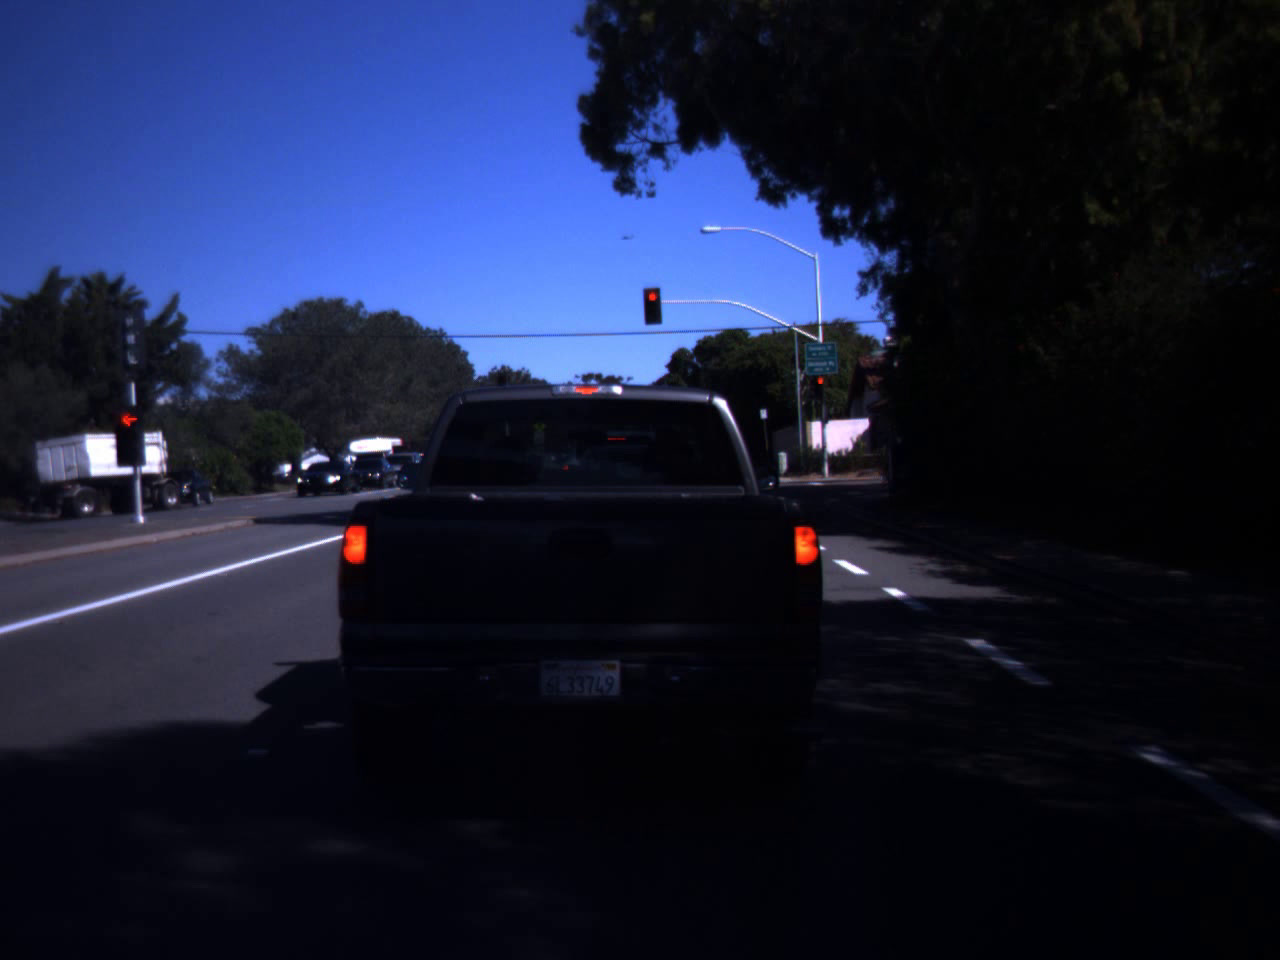stop: (112, 400, 157, 467), (644, 291, 662, 318), (814, 376, 826, 398)
